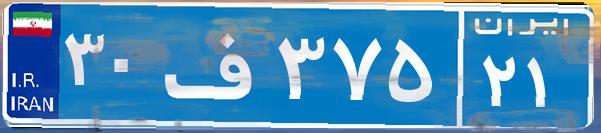0: (110, 28, 158, 105)
1: (525, 38, 570, 115)
2: (475, 38, 525, 113)
3: (273, 28, 330, 110), (57, 26, 110, 107)
5: (385, 28, 445, 110)
7: (330, 28, 385, 110)
ف: (158, 15, 273, 115)
